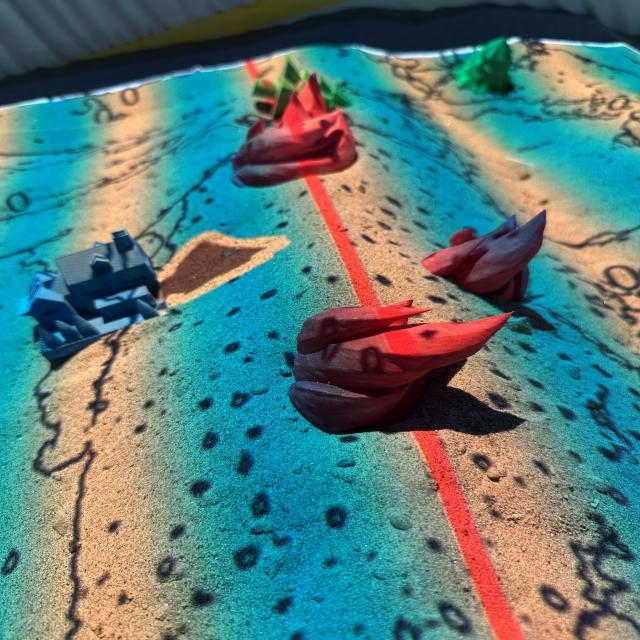fire: (290, 298, 518, 434), (231, 69, 360, 188), (423, 206, 549, 299)
house: (18, 228, 167, 361)
tree: (455, 38, 516, 97)
